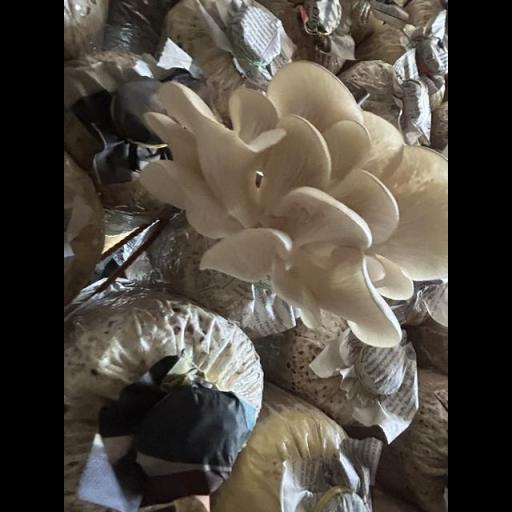White Oyster Mushroom: (131, 61, 446, 351)
